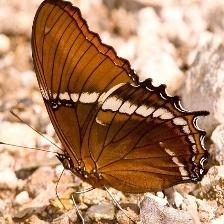butterfly: (32, 0, 210, 194)
